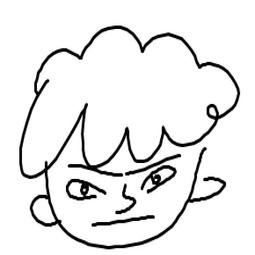ear: (188, 171, 230, 206), (29, 192, 60, 230)
eye: (139, 165, 178, 197), (60, 178, 106, 200)
frowning_eyebrow: (126, 151, 184, 177), (67, 163, 125, 179)
line_unsmiling_mouth: (89, 215, 158, 230)
nose: (113, 184, 139, 215)
